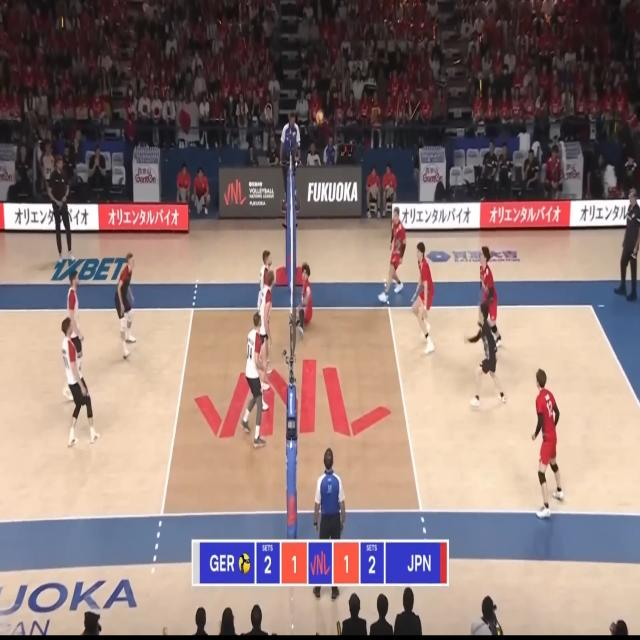ball: (316, 110, 323, 125)
